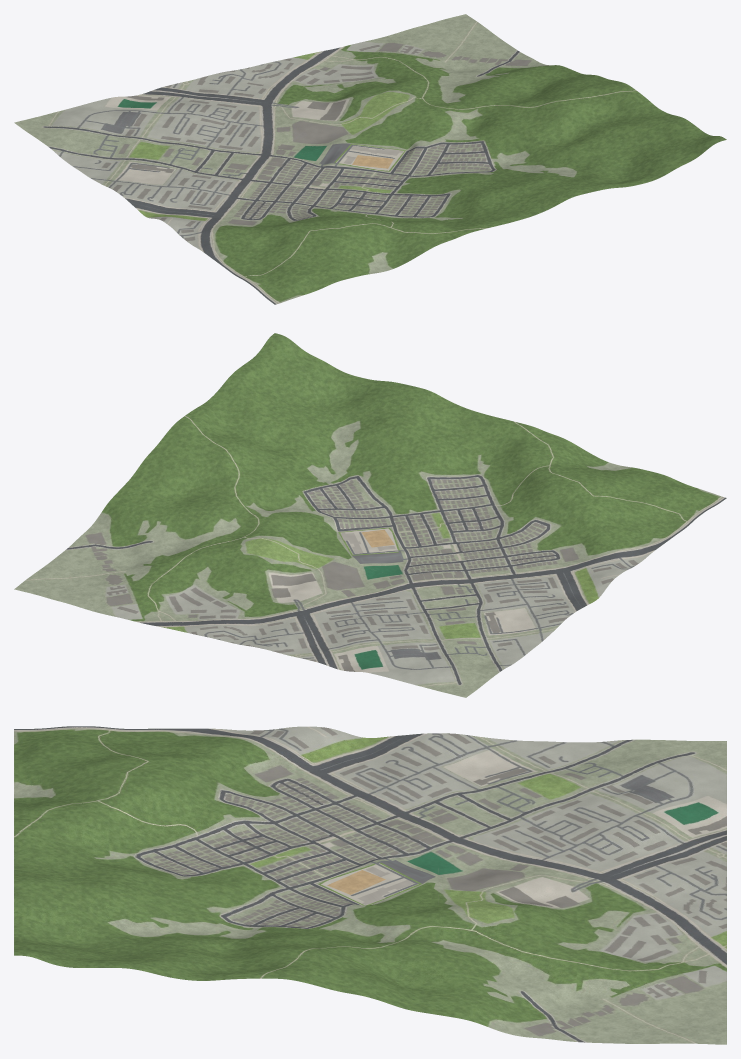
The picture shows the model from 3 angles, top to bottom: view 1: azimuth 30°, elevation 25°; view 2: azimuth 150°, elevation 25°; view 3: azimuth 270°, elevation 25°; orthographic projection. The views are drawn at different scales.
Visible parts, largest first — view 1: ground-area, ground-school; view 2: ground-area, ground-school; view 3: ground-area, ground-school.
Part boxes in pixels (x1,y1,x2,y2): ground-area: (14,14,726,304); ground-school: (301,122,439,185); ground-area: (14,333,726,697); ground-school: (301,509,439,574); ground-area: (14,726,726,1044); ground-school: (302,853,438,908).
Bounding box in the file's own units: 1088 × 157 × 1088.
2 materials, 2 textured.
